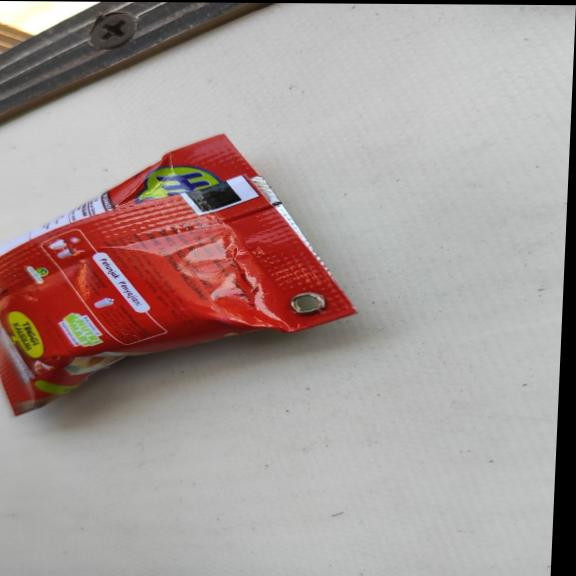Plastik: (0, 131, 362, 419)
